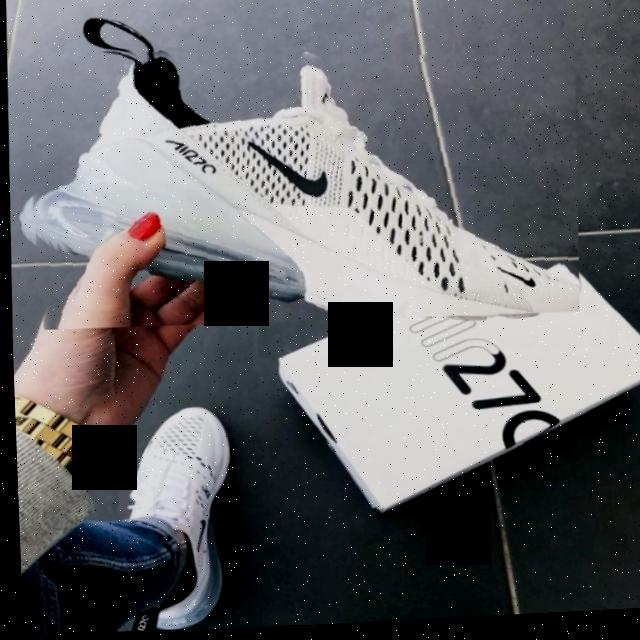shoe: (14, 27, 581, 340)
